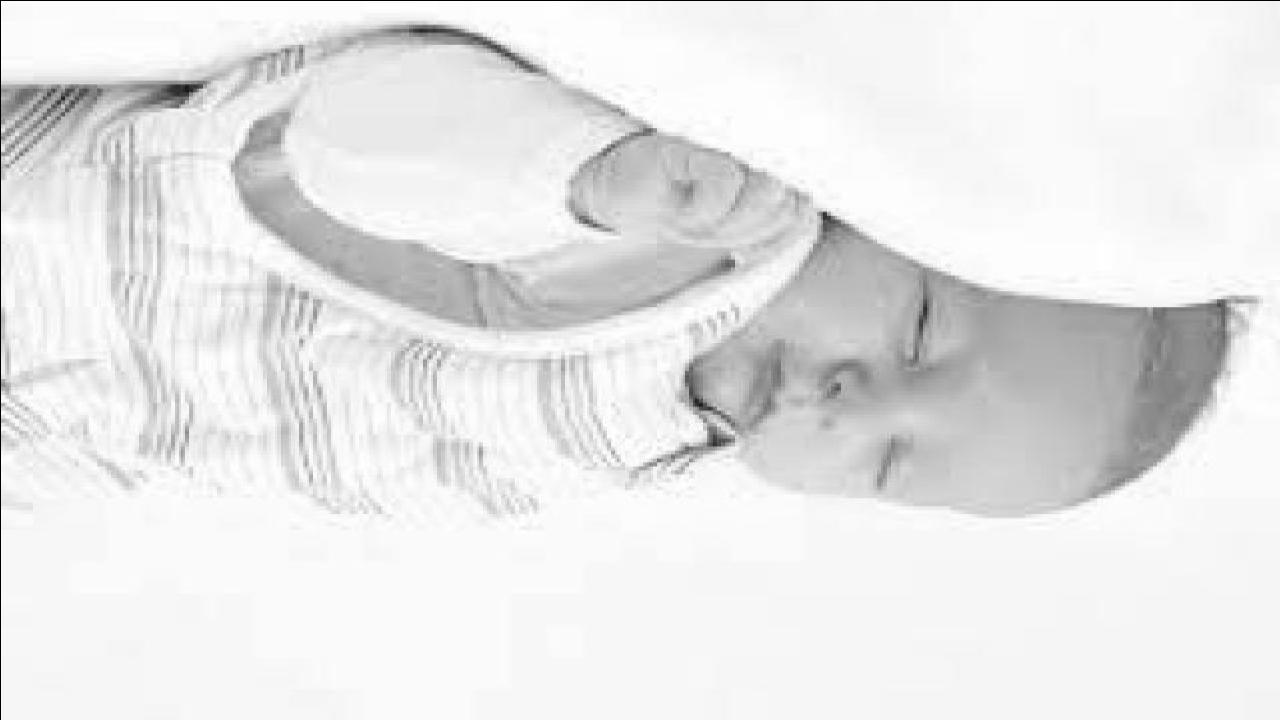hand: (594, 130, 820, 262)
